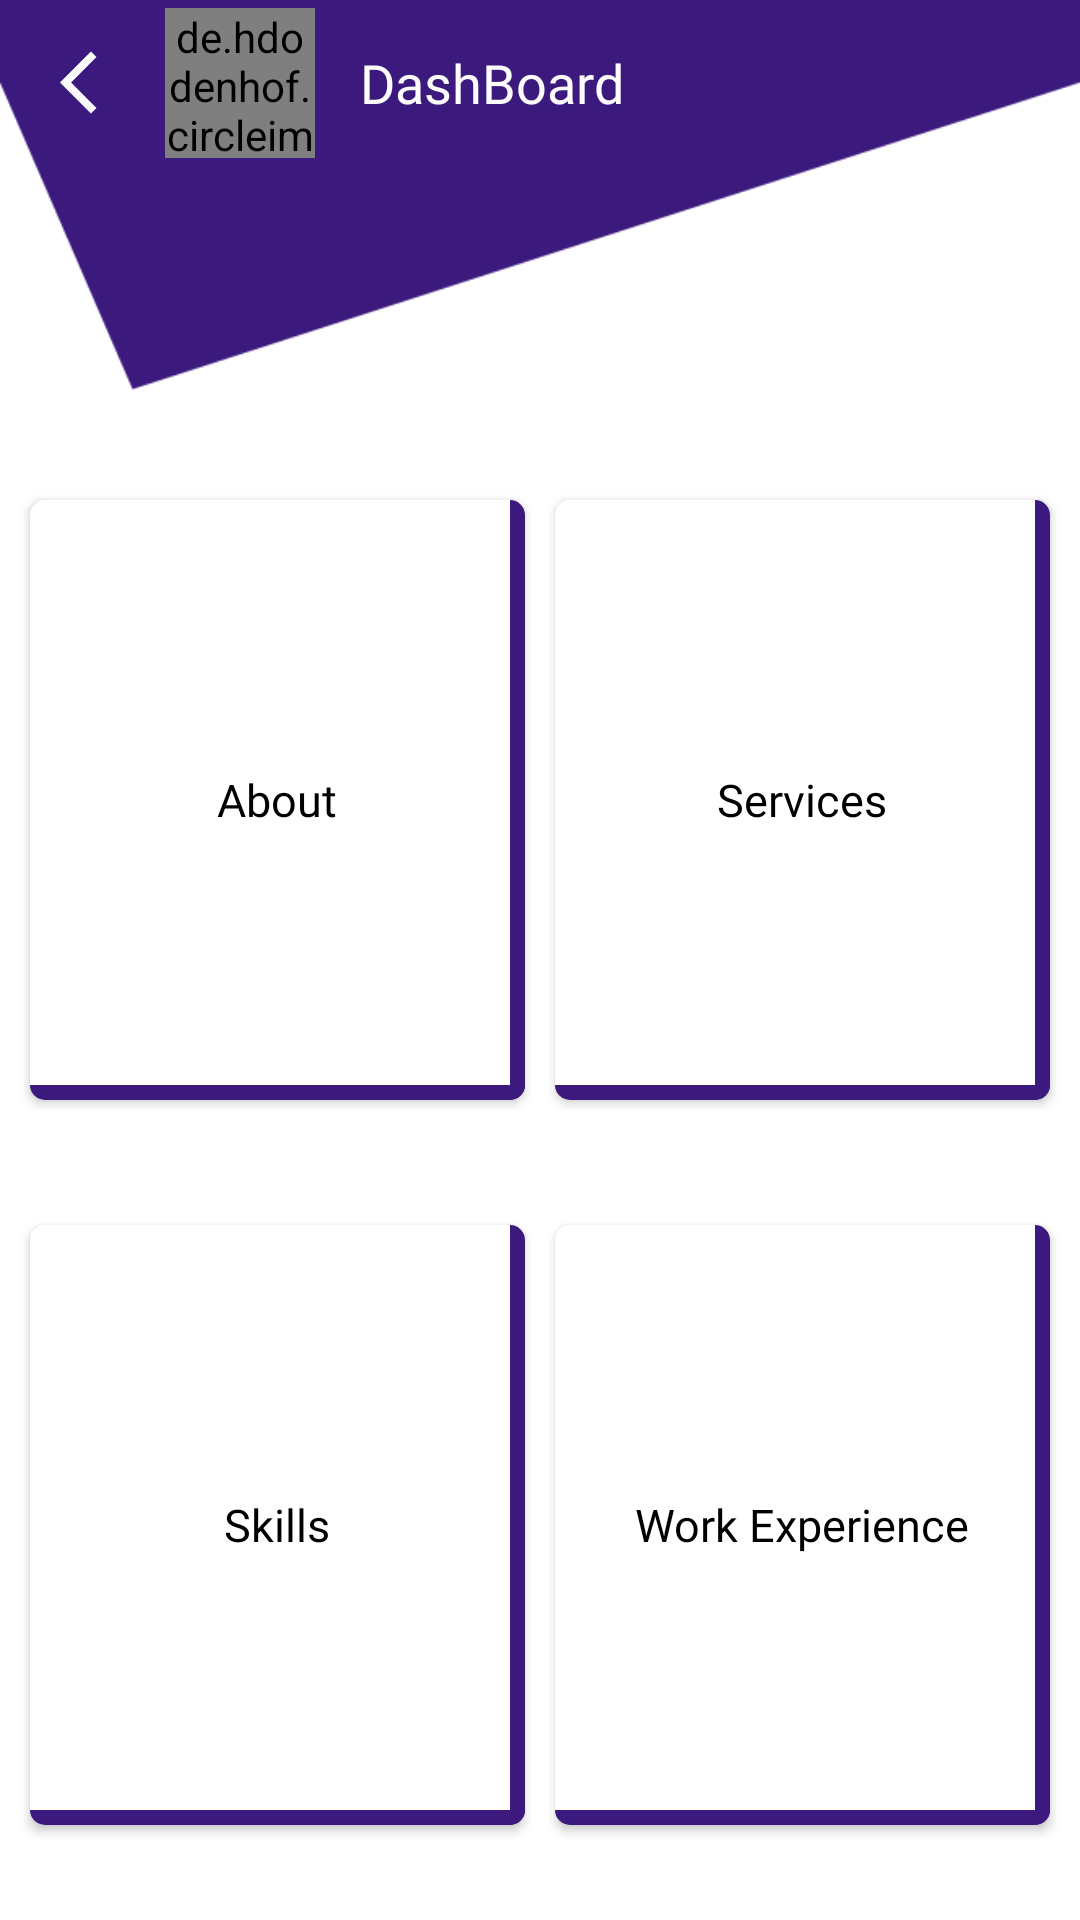

Icons on this 1080px×1920px Android screen, each with its box as bbox=[x1, y1, x2, y2]:
arrow back: bbox=[60, 51, 97, 114]
